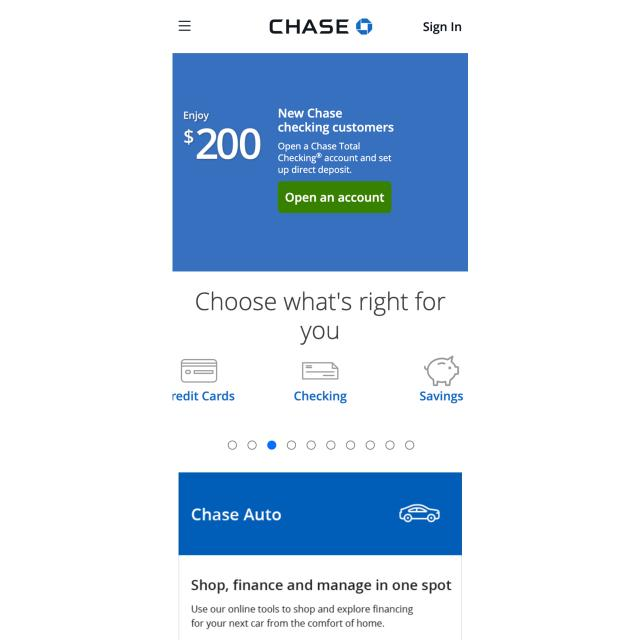CheckBox: (278, 182, 392, 214), (420, 18, 464, 36)
Input field: (188, 603, 420, 631)
bag: (172, 0, 467, 53)
breadcrumbs: (189, 500, 286, 530)
card: (174, 53, 468, 271)
carousel: (392, 502, 444, 526)
data feed: (283, 190, 386, 207)
date picker: (267, 15, 375, 40)
decoration: (176, 16, 194, 35)
dropdown: (222, 434, 422, 454)
image: (192, 288, 449, 348)
